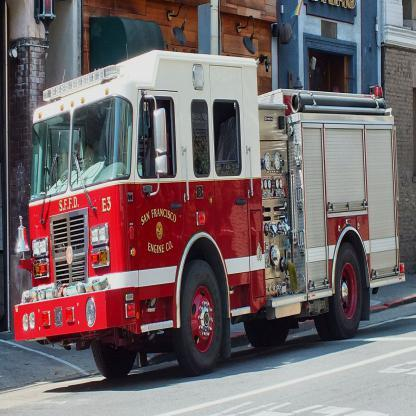fire-truck: (32, 28, 384, 397)
